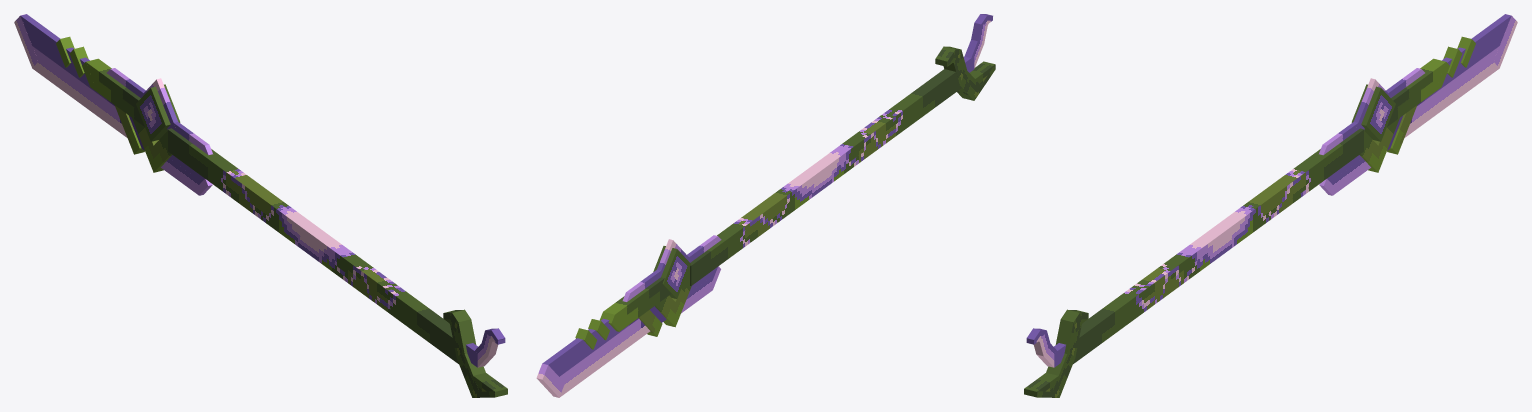
File: thorns_of_oblivion_level_one.glb
3 renders of one model, left to right at view 1: azimuth 30°, elevation 25°; view 2: azimuth 150°, elevation 25°; view 3: azimuth 330°, elevation 25°, orthographic. The views are drawn at different scales.
Visible parts, largest first — view 1: main__Tool_R; view 2: main__Tool_R; view 3: main__Tool_R.
Boxes of the visible parts, x1,y1,x2,y2 form: main__Tool_R: (14,14,507,397); main__Tool_R: (536,14,995,397); main__Tool_R: (1024,14,1517,397).
Bounding box in the file's own units: 0.05 × 0.3038 × 2.87.
1 material, 1 textured.
